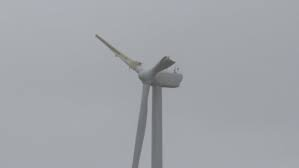faulty: (90, 29, 191, 115)
